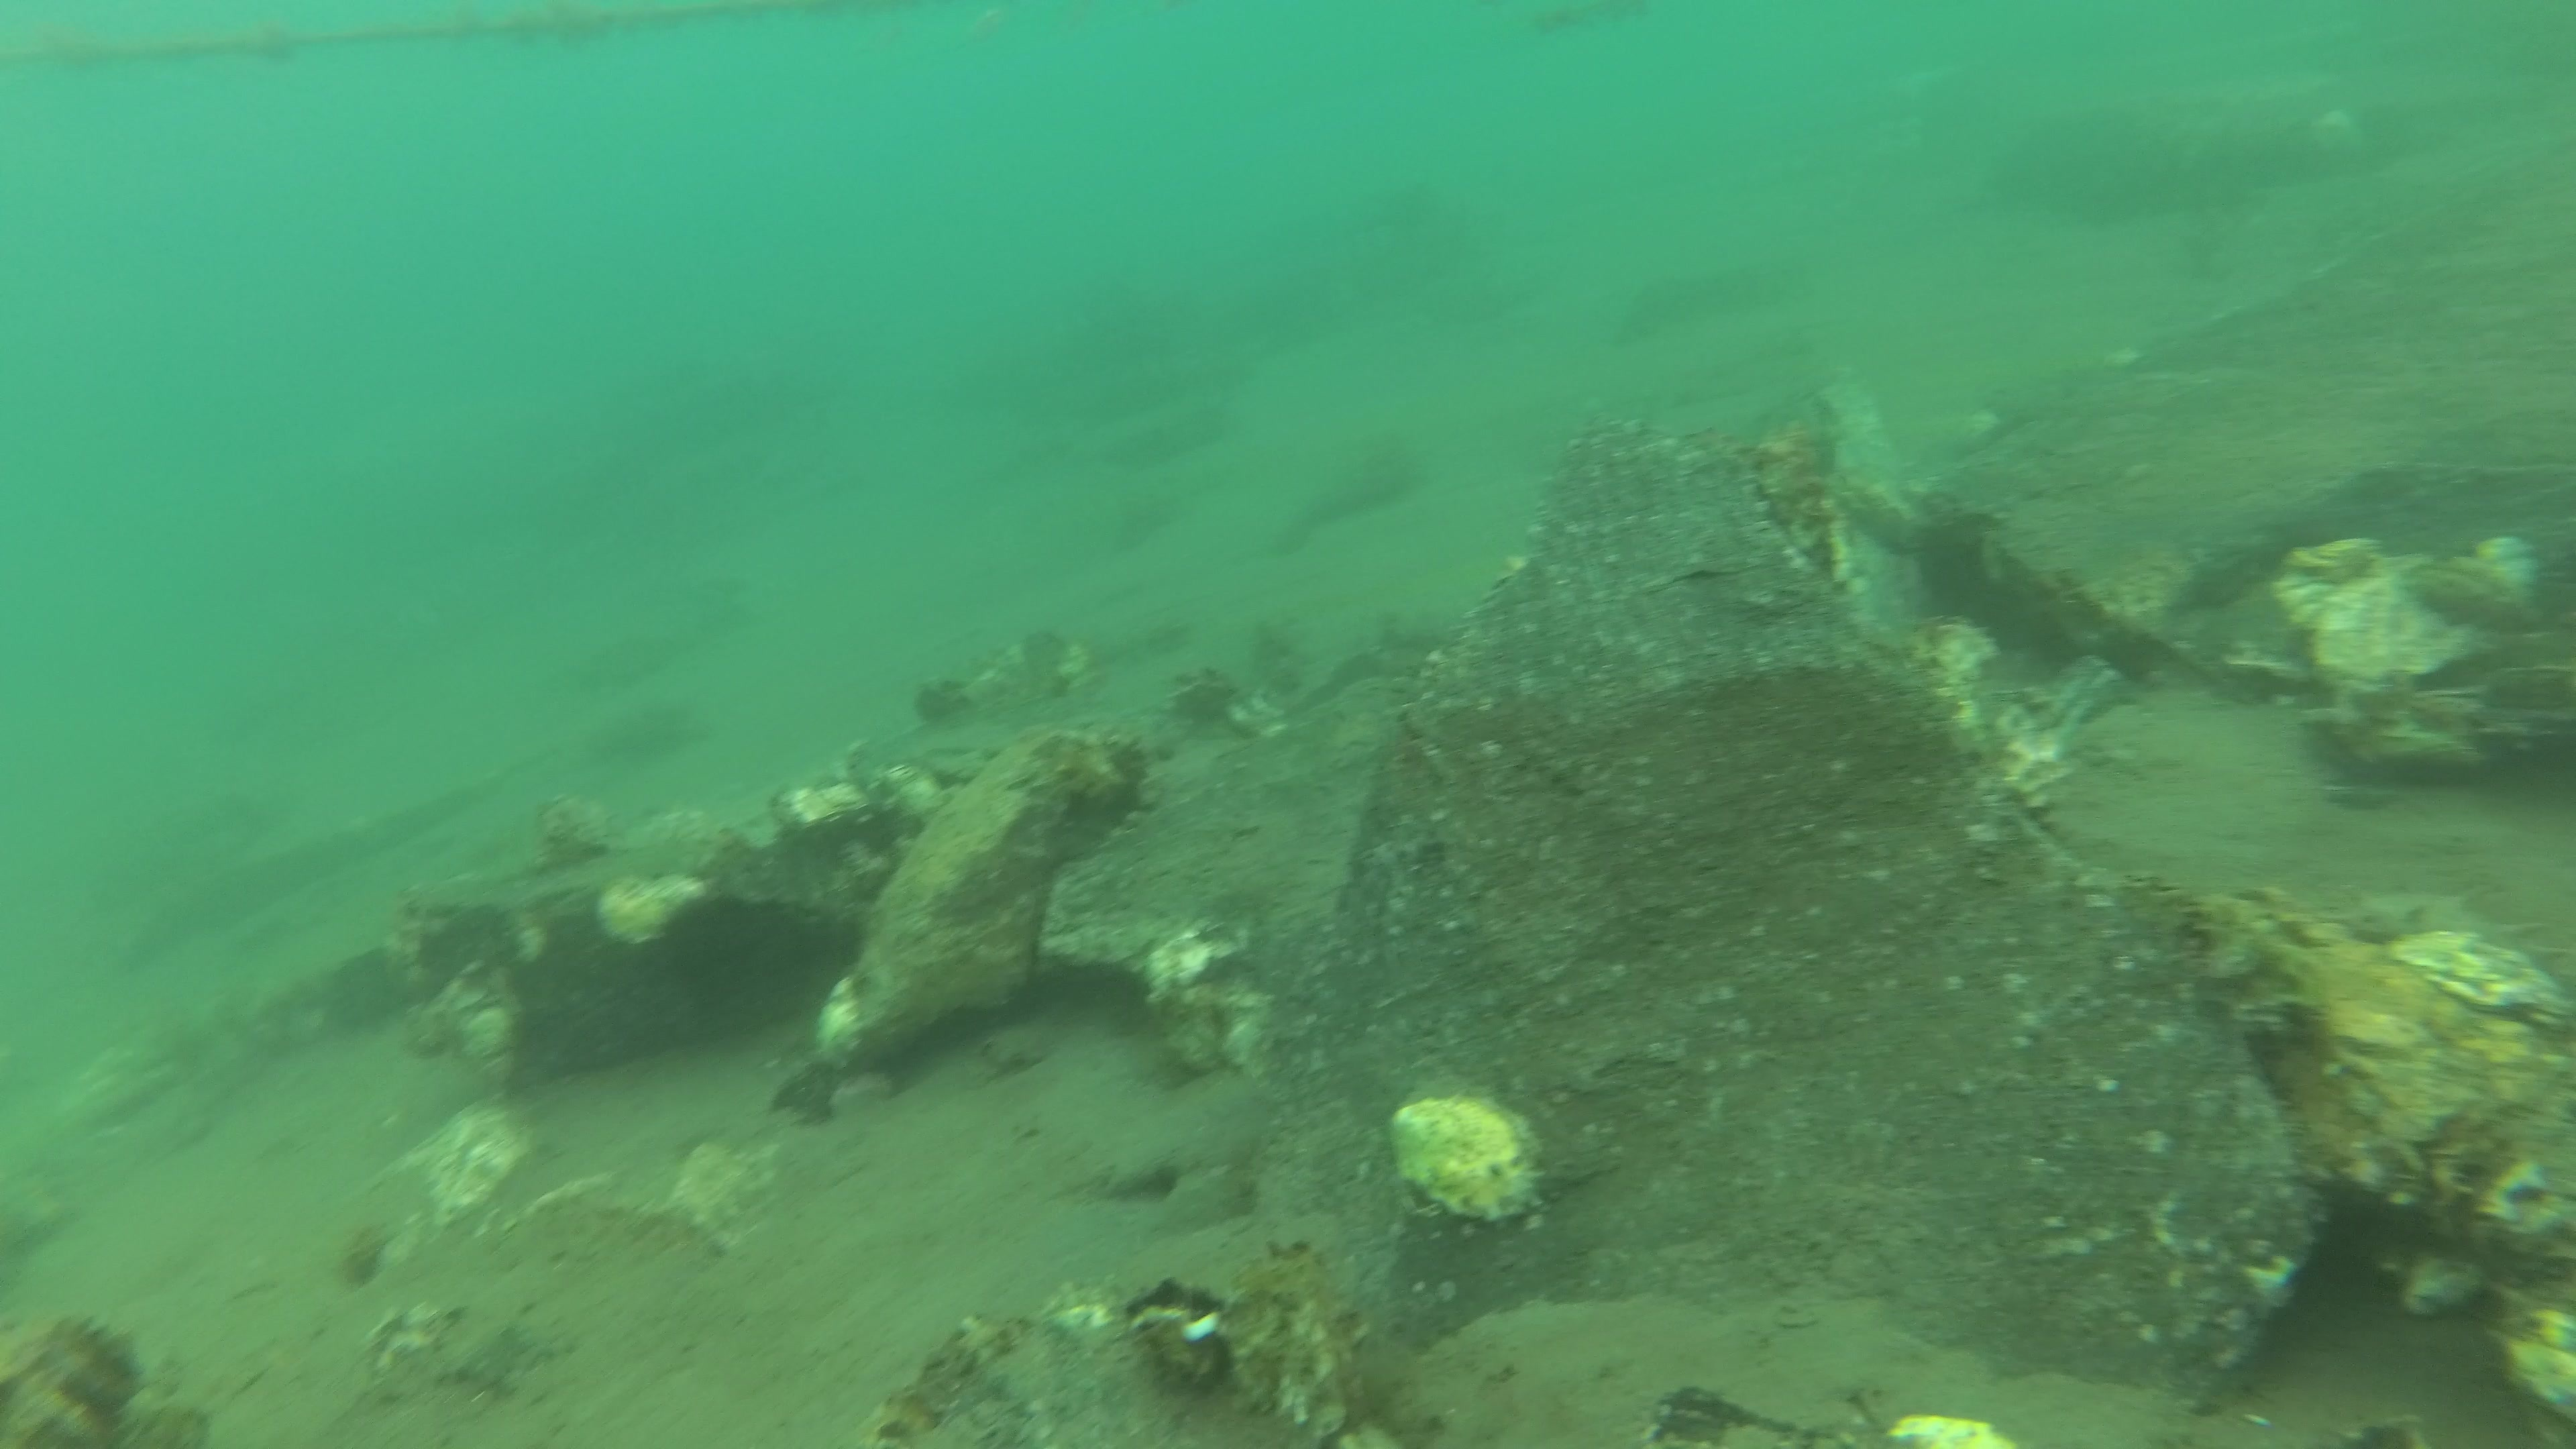echinus: (651, 883, 812, 1016)
